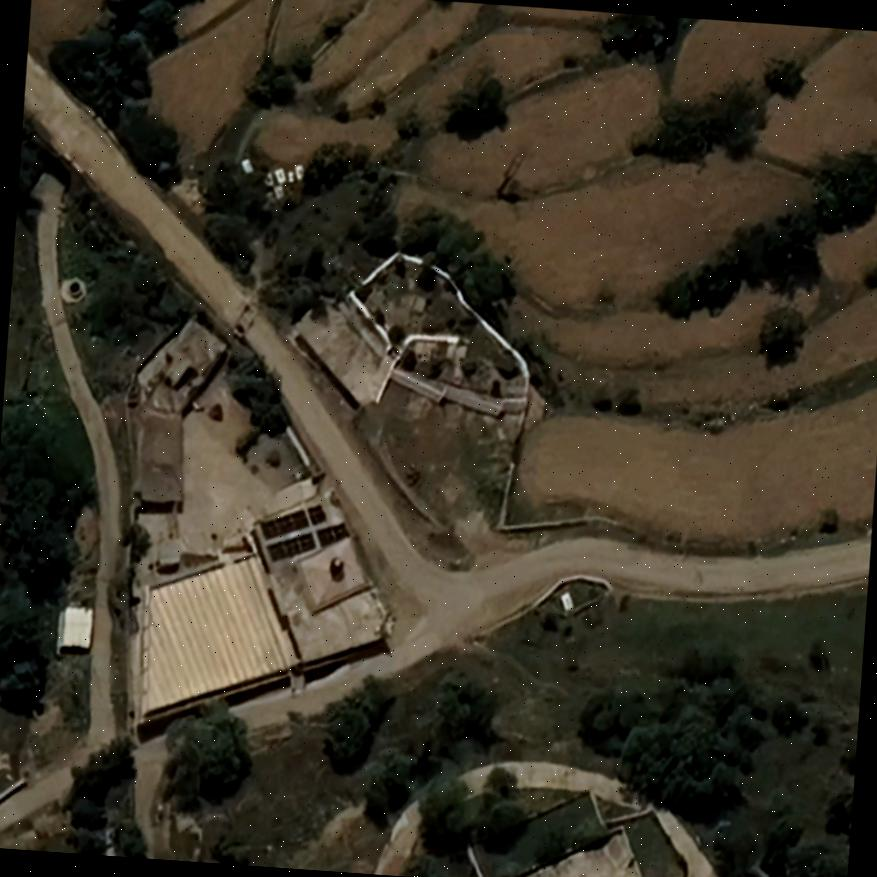Solarpanel: (265, 531, 317, 561), (259, 508, 309, 539), (315, 521, 351, 546), (306, 504, 325, 524)
